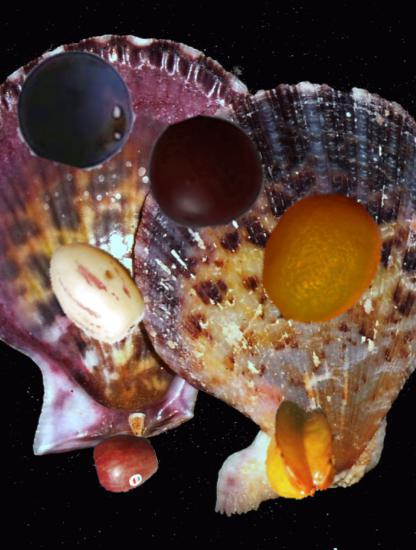Apple: (93, 430, 158, 495)
Carambula: (252, 399, 354, 501)
Cherry: (147, 113, 264, 230)
Grape: (13, 46, 138, 171)
Lemon: (248, 191, 389, 332)
Pepino: (40, 233, 155, 348)
